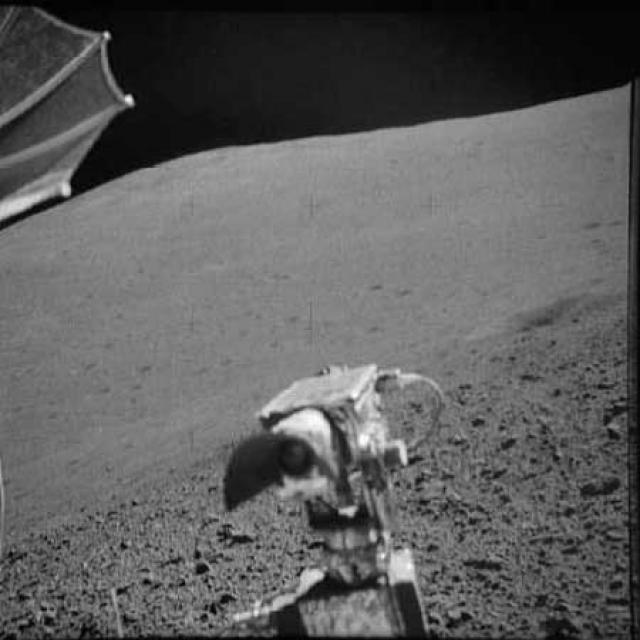artifact: (217, 350, 458, 639), (0, 1, 145, 248)
crater: (476, 284, 619, 344)
